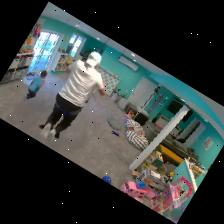person: (39, 52, 105, 138), (25, 71, 47, 99)
